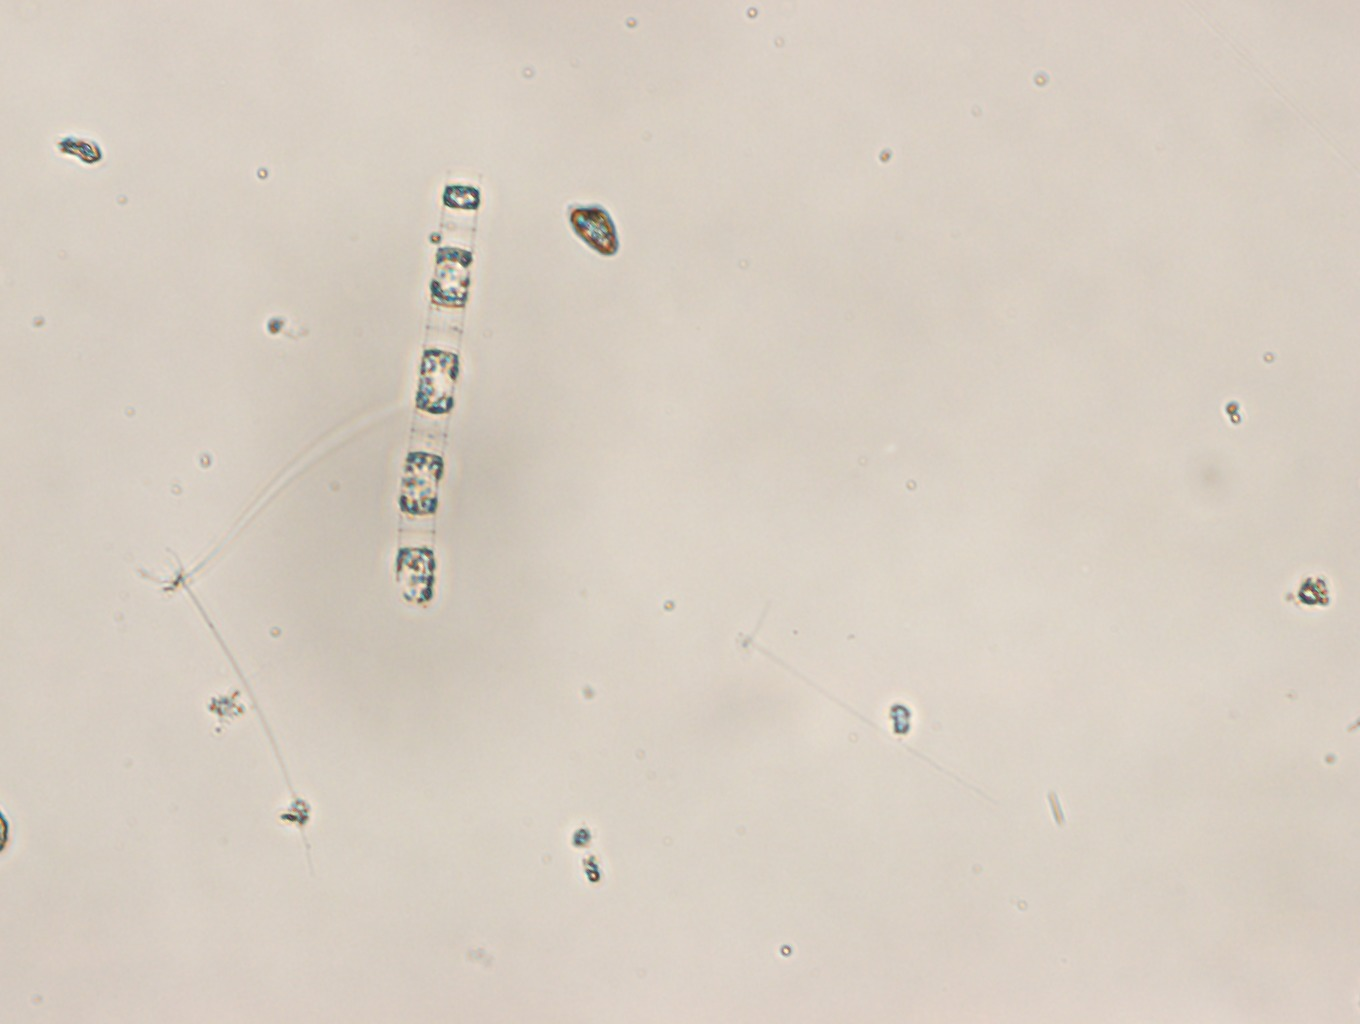skeletonema: (387, 169, 479, 607)
